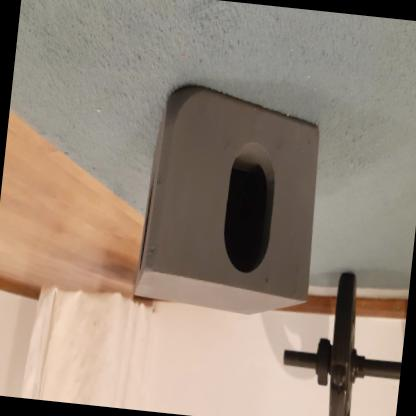CornerCasting: (131, 80, 326, 328)
